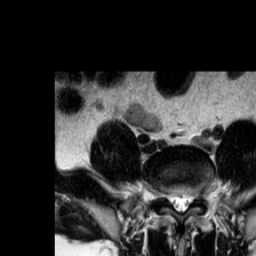CCS_normal: (177, 184, 183, 221)
LFS_stenosis: (191, 182, 199, 207)
LLS_normal: (183, 183, 191, 214)
RFS_stenosis: (161, 182, 169, 206)
RLS_normal: (169, 184, 177, 217)
